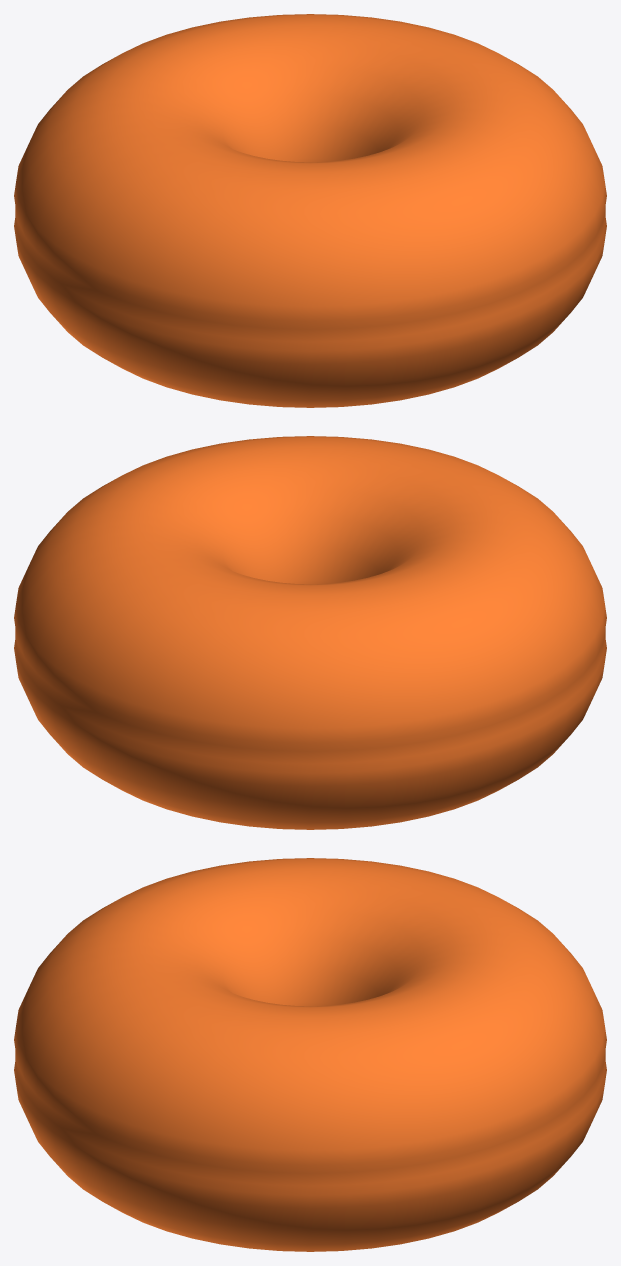
The model's file is plain.fbx.
3 views of the same model, one above another, from view 1: azimuth 30°, elevation 25°; view 2: azimuth 150°, elevation 25°; view 3: azimuth 270°, elevation 25° (orthographic).
Parts seen in each view (by area): view 1: plain.002; view 2: plain.002; view 3: plain.002.
Boxes of the visible parts, left/top/right/bottom form: plain.002: left=14, top=14, right=606, bottom=407; plain.002: left=14, top=436, right=606, bottom=829; plain.002: left=14, top=858, right=606, bottom=1251.
Size of the model in its own units: 250 by 104 by 250.
